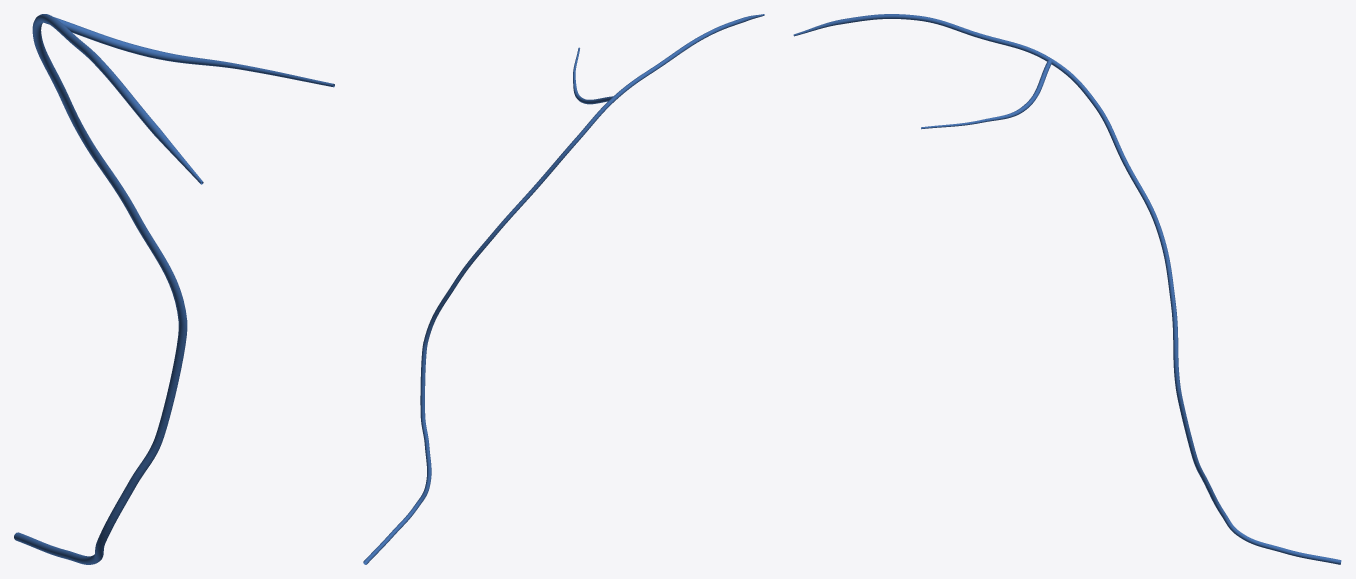
3 renders of one model, left to right at view 1: azimuth 30°, elevation 25°; view 2: azimuth 150°, elevation 25°; view 3: azimuth 270°, elevation 25°, orthographic. The views are drawn at different scales.
Visible parts, largest first — view 1: 左侧枕静脉; view 2: 左侧枕静脉; view 3: 左侧枕静脉.
Part boxes in pixels (box(x1,y1,x2,y2)): 左侧枕静脉: box(14, 14, 334, 564); 左侧枕静脉: box(363, 14, 764, 564); 左侧枕静脉: box(793, 14, 1341, 564).
Bounding box in the file's own units: 0.0634 × 0.1513 × 0.1598.
